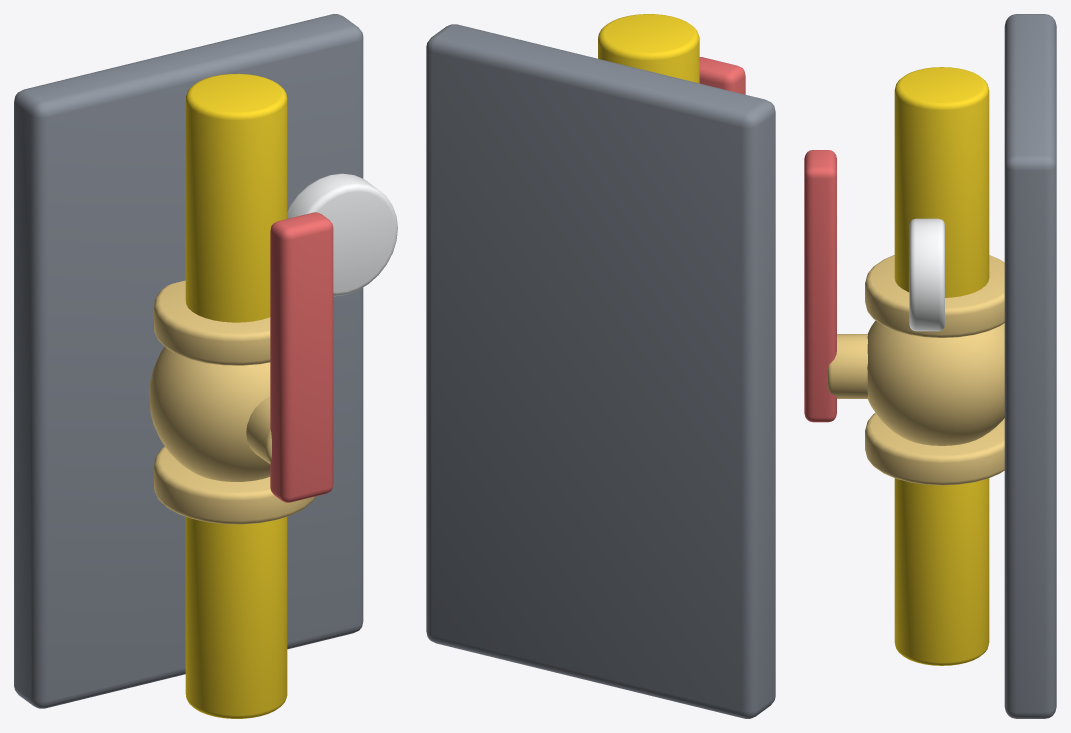
Rendered from SM_GasValve.fbx.
3 views of the same model, side by side, from view 1: azimuth 30°, elevation 25°; view 2: azimuth 150°, elevation 25°; view 3: azimuth 270°, elevation 25° (orthographic). The views are drawn at different scales.
Parts seen in each view (by area): view 1: SM_GasValve; view 2: SM_GasValve; view 3: SM_GasValve.
Part boxes in pixels (<box>): SM_GasValve: <box>14,14,397,718</box>; SM_GasValve: <box>426,14,775,718</box>; SM_GasValve: <box>804,14,1056,718</box>.
Size of the model in its own units: 30 by 52.5 by 21.31.
